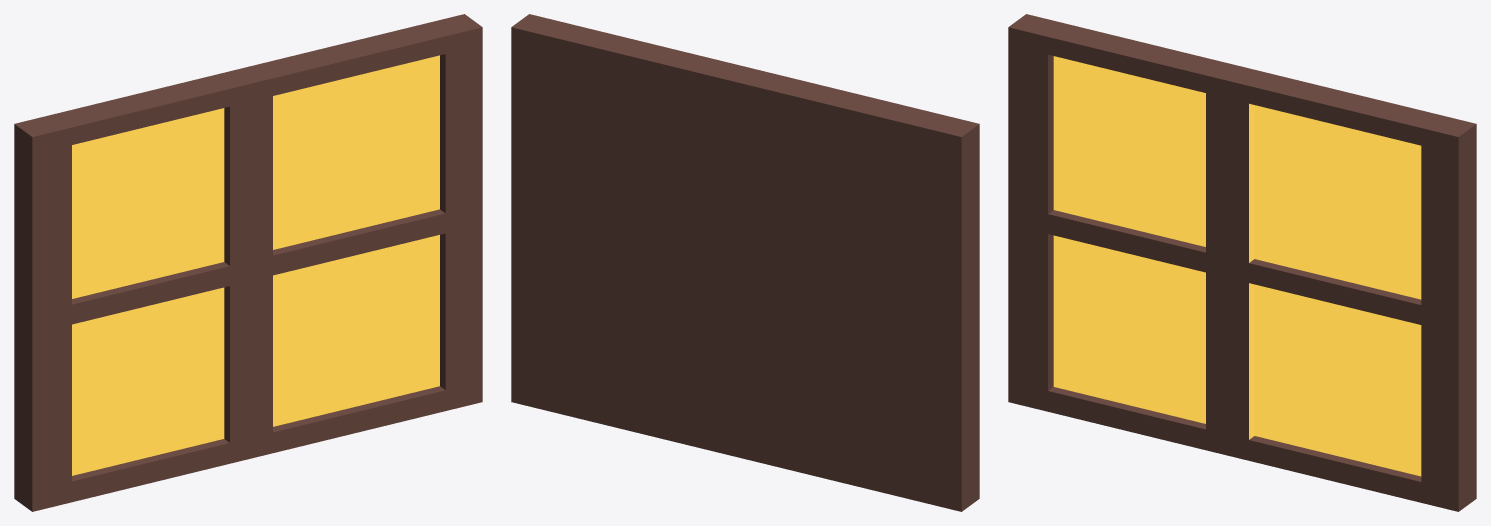
The picture shows the model from 3 angles, left to right: view 1: azimuth 30°, elevation 25°; view 2: azimuth 150°, elevation 25°; view 3: azimuth 330°, elevation 25°; orthographic projection.
Visible parts, largest first — view 1: Cube.018; view 2: Cube.018; view 3: Cube.018.
Part boxes in pixels (x1,y1,x2,y2): Cube.018: (14,14,482,511); Cube.018: (511,14,979,511); Cube.018: (1008,14,1476,511).
Bounding box in the file's own units: 0.2268 × 0.1804 × 0.0158.
